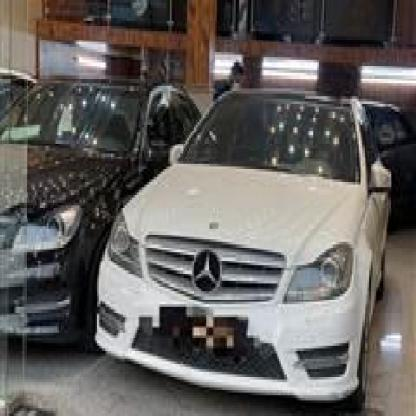Car: (85, 96, 407, 377), (0, 63, 198, 340)
